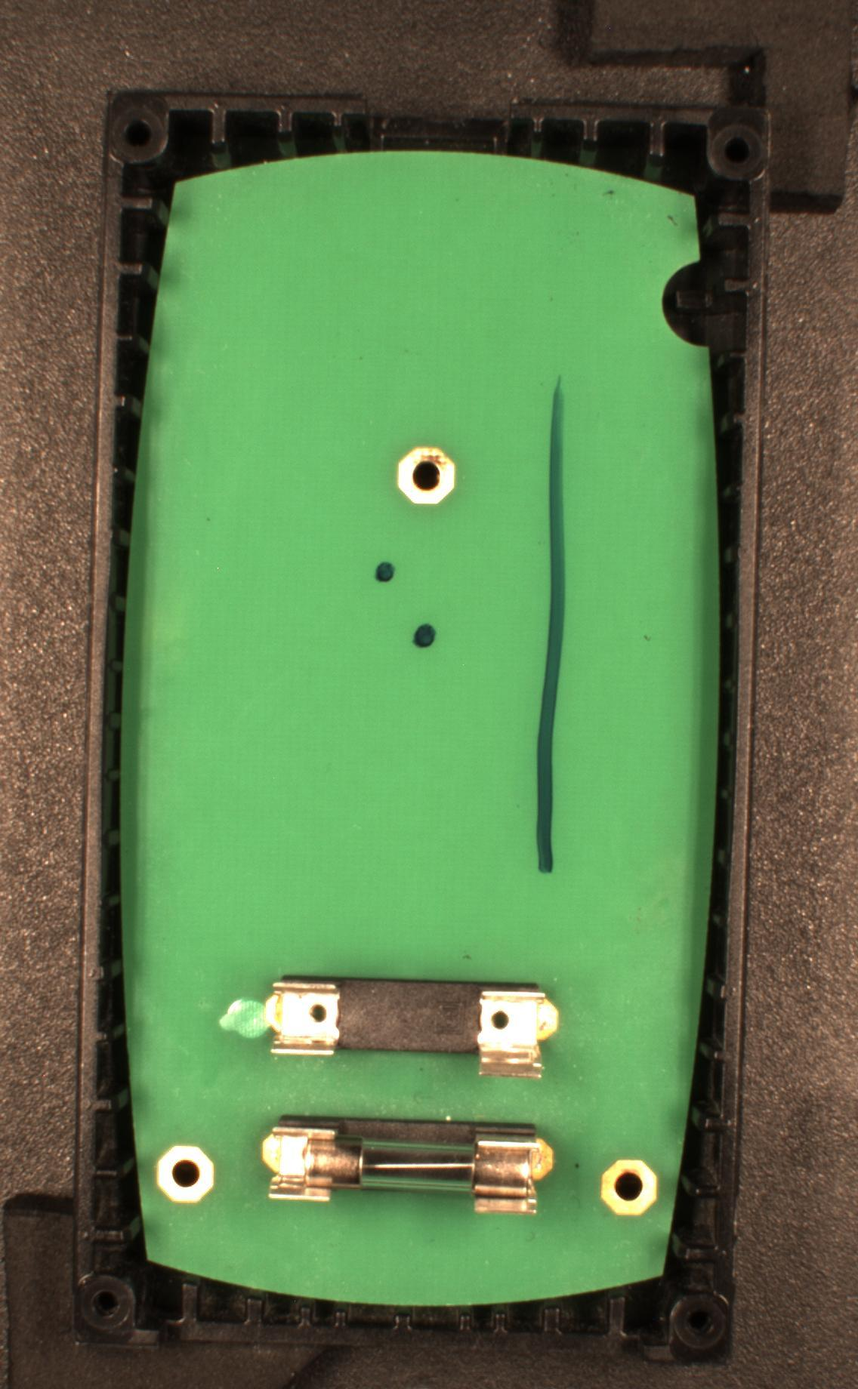Linijsko Ostecene: (530, 370, 570, 881)
Nepostojanje osiguraca: (263, 972, 561, 1081)
Tockasto Ostecenje: (411, 620, 438, 651), (371, 559, 398, 586)
